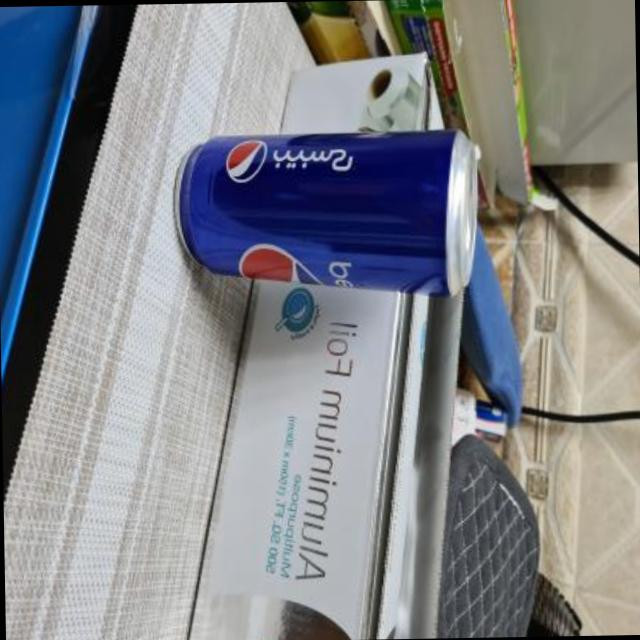metal: (177, 132, 477, 294)
